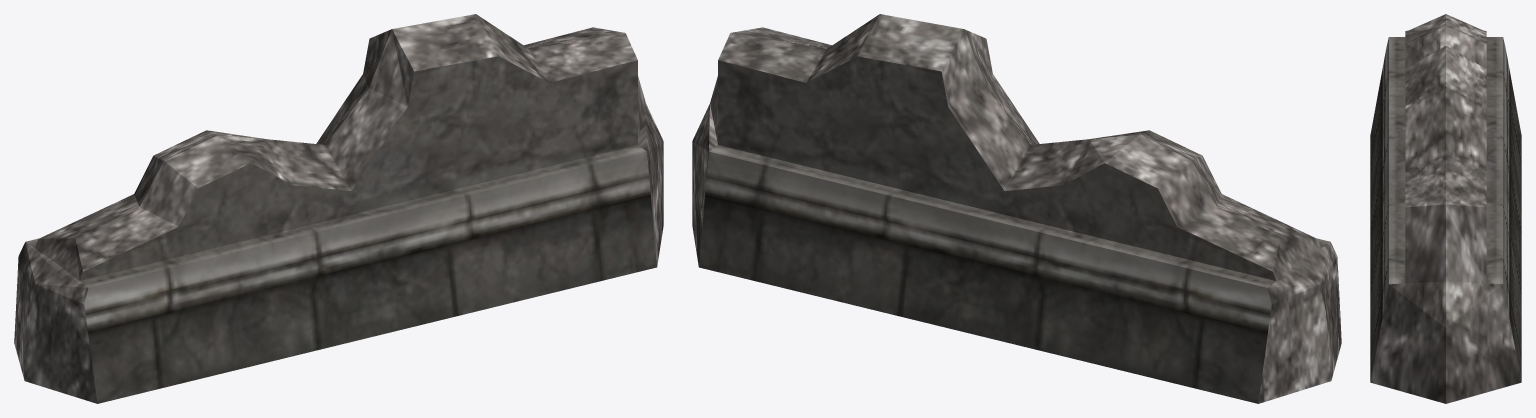
3 views of the same model, side by side, from view 1: azimuth 30°, elevation 25°; view 2: azimuth 150°, elevation 25°; view 3: azimuth 270°, elevation 25° (orthographic). The views are drawn at different scales.
Visible parts, largest first — view 1: object84; view 2: object84; view 3: object84.
Part boxes in pixels (<box>): object84: <box>14,14,663,403</box>; object84: <box>692,14,1341,403</box>; object84: <box>1370,14,1521,403</box>.
Bounding box in the file's own units: 387 × 152 × 87.27.
2 materials, 2 textured.
